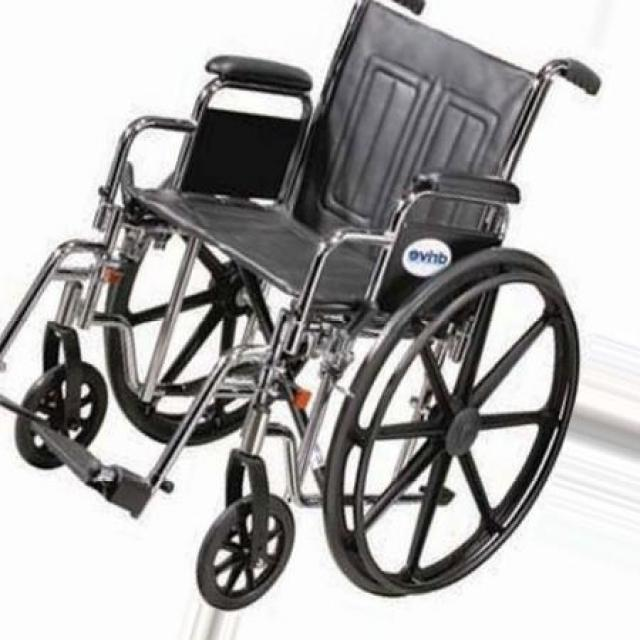wheelchair: (2, 0, 640, 616)
